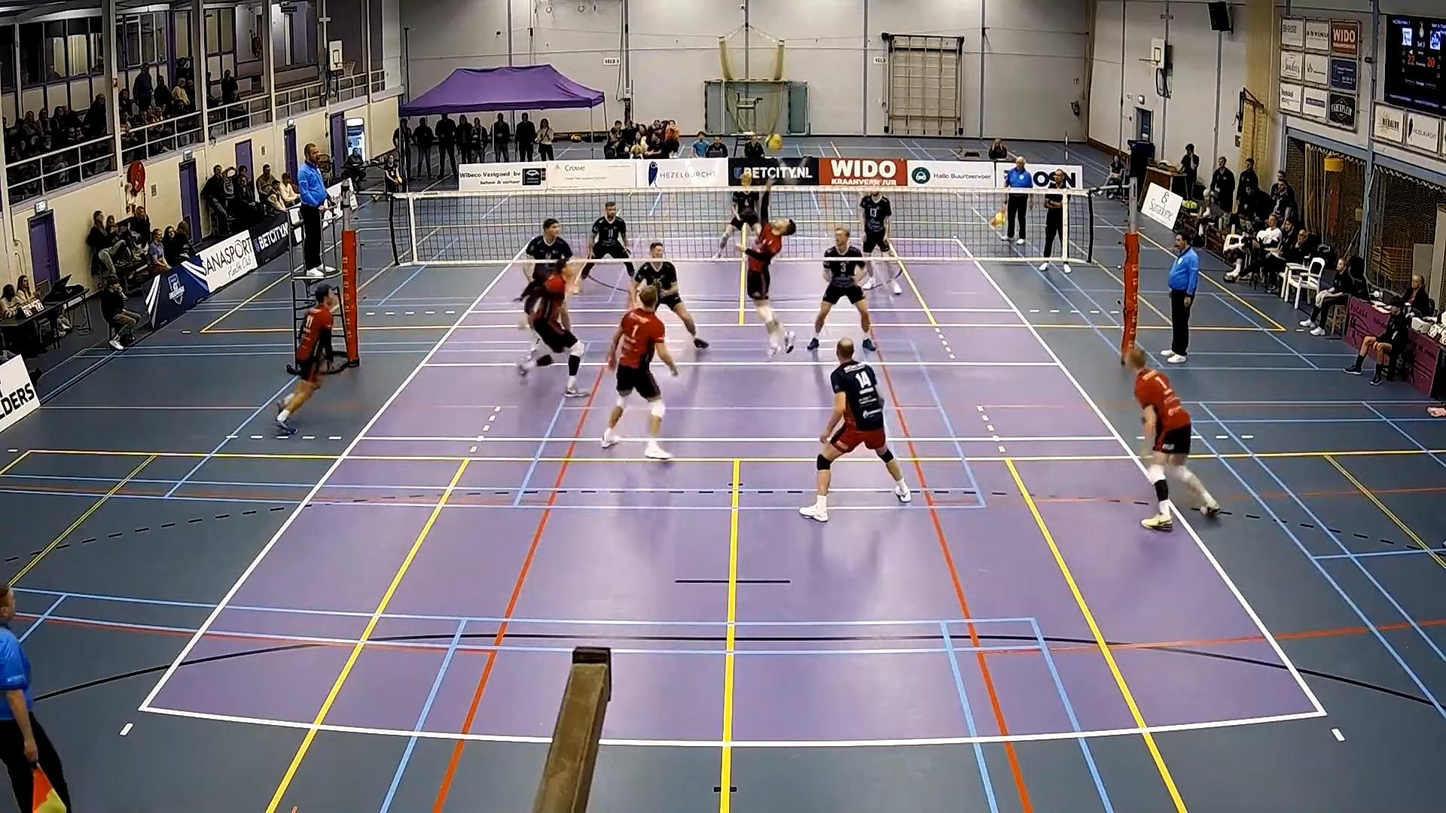Player: (800, 338, 911, 521), (1125, 347, 1220, 530), (602, 286, 677, 459), (517, 260, 589, 397), (276, 284, 337, 435), (807, 227, 876, 352), (633, 242, 709, 349), (860, 190, 901, 294), (712, 170, 759, 258), (580, 202, 630, 279), (519, 218, 572, 282)
Set: (720, 217, 798, 353)
ball: (766, 132, 780, 147)
